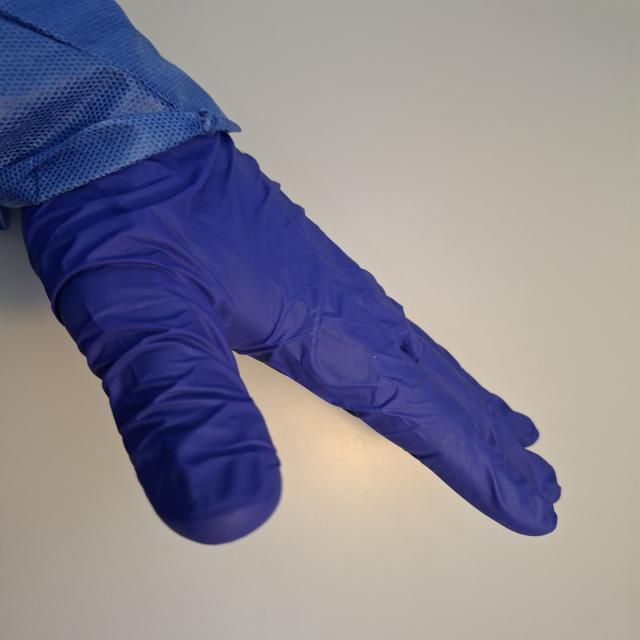glove_on: (17, 109, 566, 548)
